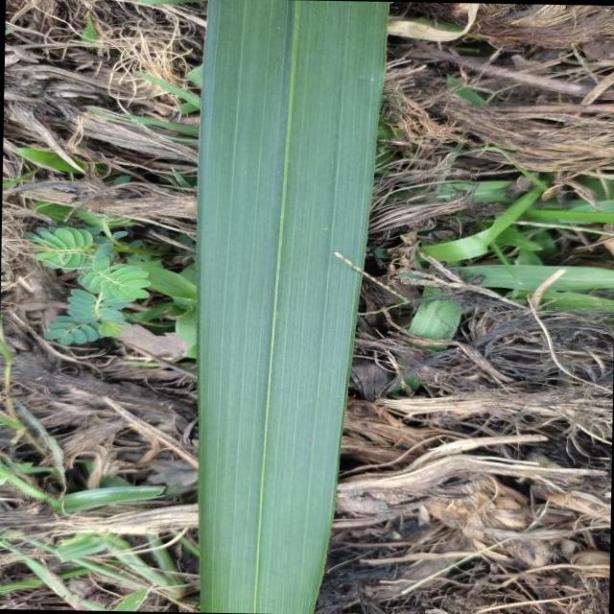Healthy: (201, 0, 386, 605)
